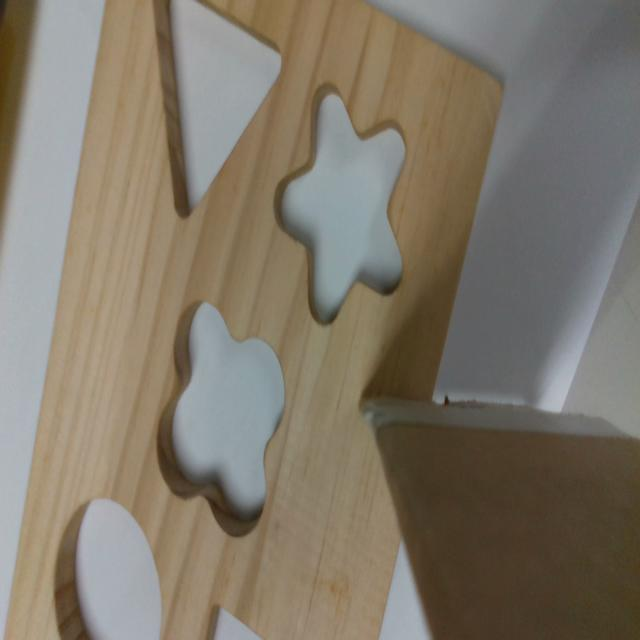circle: (55, 500, 163, 638)
flower: (156, 302, 285, 537)
star: (273, 84, 404, 322)
triangle: (153, 4, 282, 223)
